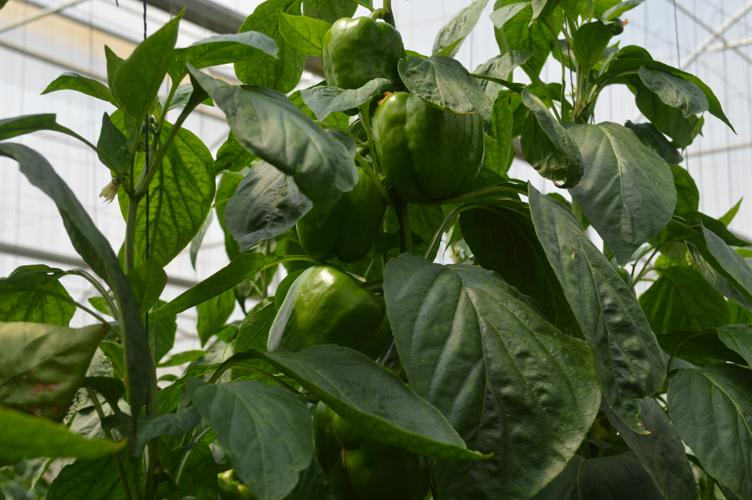BellPepper: (256, 266, 391, 358), (306, 399, 428, 495), (370, 94, 487, 193), (294, 169, 388, 260), (313, 16, 402, 87)
